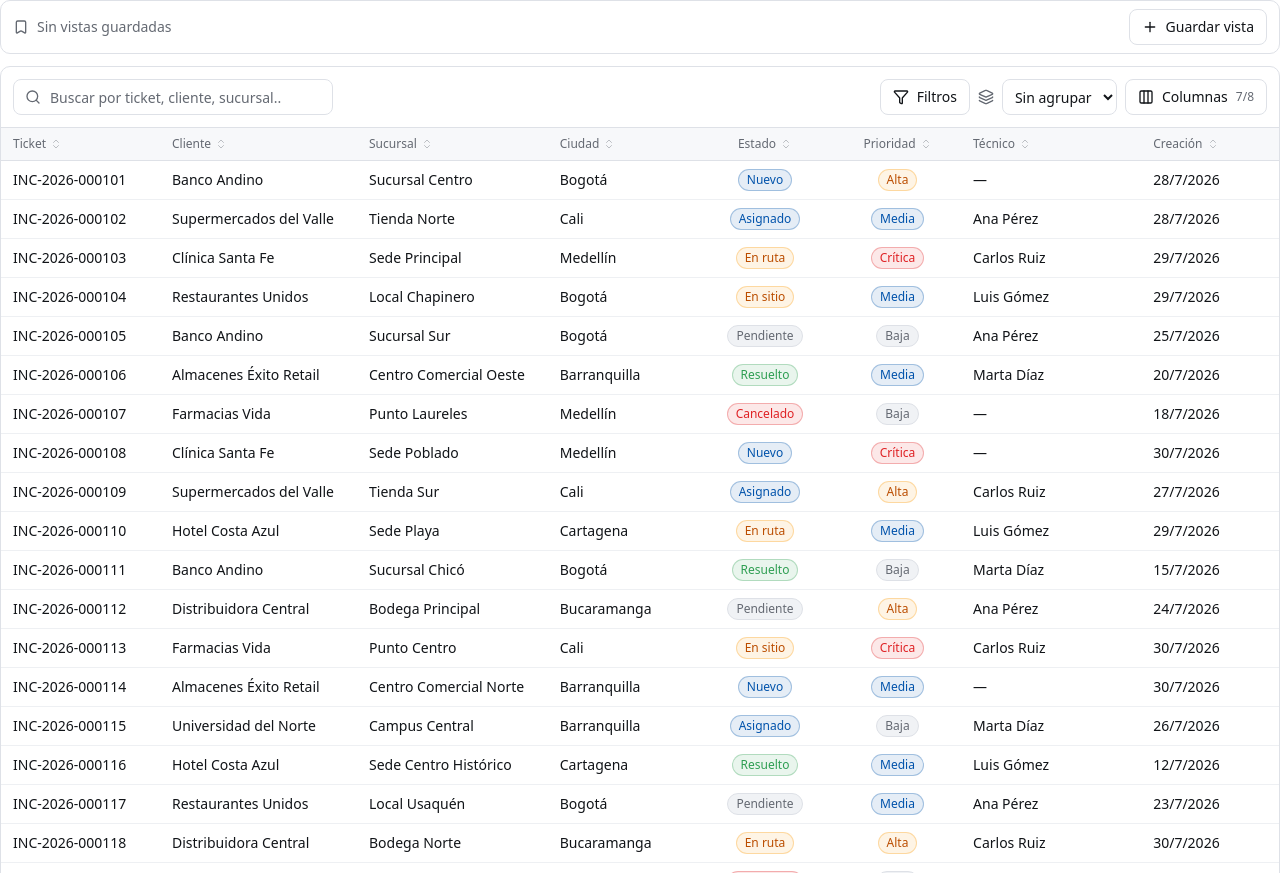
Tickets con AdvancedTable › agrupa mostrando la etiqueta del estado, no su código
Select "Estado" in the dropdown named "Agrupar por" at (1059, 97), box top-left (1002, 79), bottom-right (1117, 115)
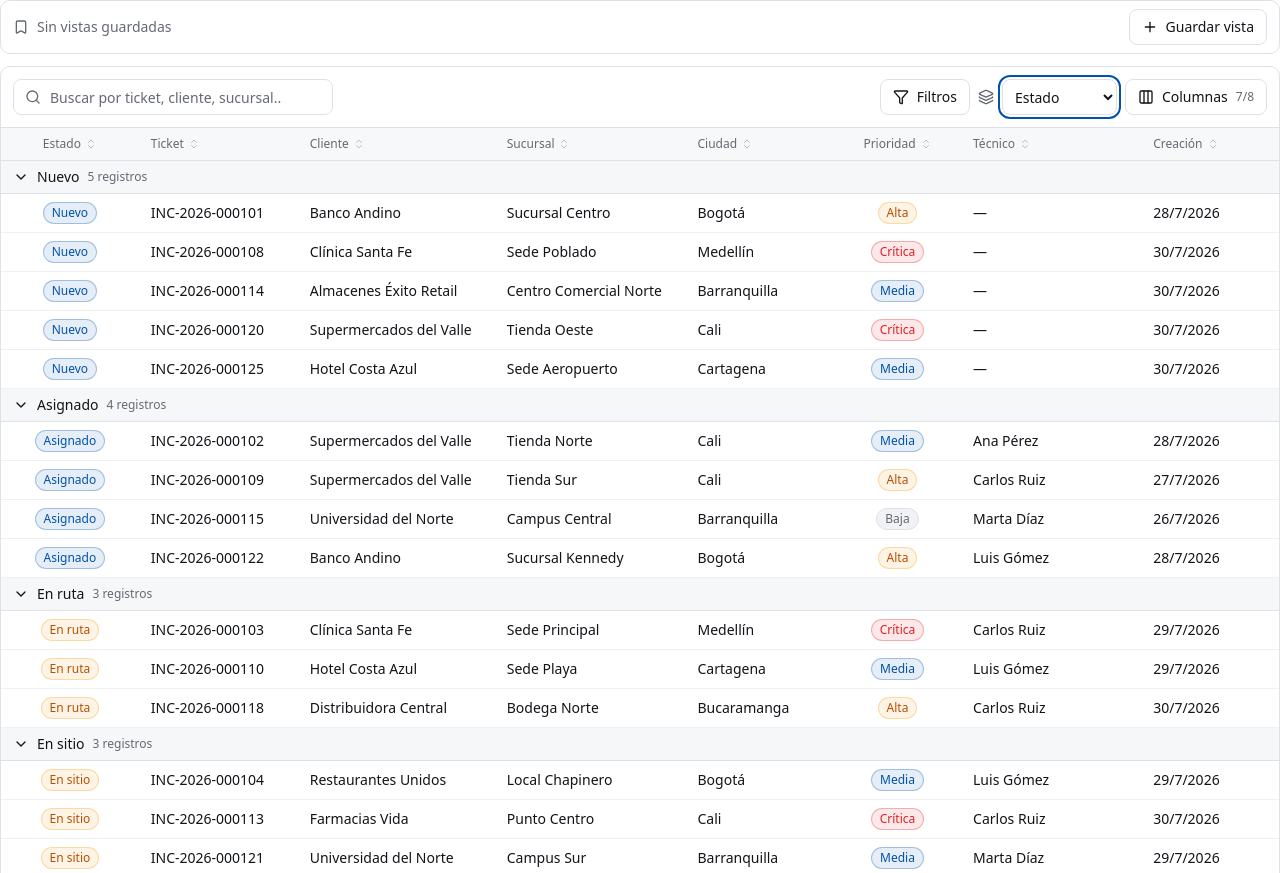
Now the button with aria-label "Grupo En ruta" is shown, box top-left (13, 584), bottom-right (152, 604)
